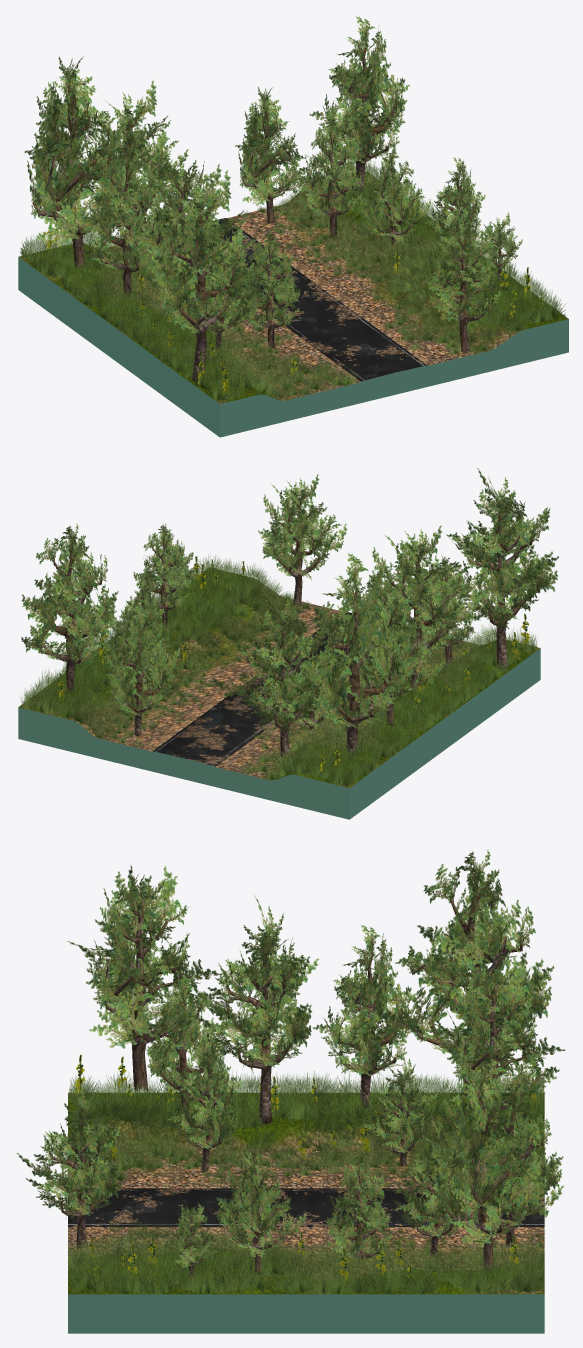
The model's file is road.glb.
3 views of the same model, one above another, from view 1: azimuth 30°, elevation 25°; view 2: azimuth 150°, elevation 25°; view 3: azimuth 270°, elevation 25° (orthographic). The views are drawn at different scales.
Parts seen in each view (by area): view 1: Trees_Nature_0, Ground_Ground_0, BgCutOut_BackGround_0, Road_Road_0; view 2: Trees_Nature_0, Ground_Ground_0, BgCutOut_BackGround_0, Road_Road_0; view 3: Trees_Nature_0, Ground_Ground_0, BgCutOut_BackGround_0, Road_Road_0.
Part boxes in pixels (<box>): Trees_Nature_0: <box>20,16,566,401</box>; Ground_Ground_0: <box>19,172,568,403</box>; BgCutOut_BackGround_0: <box>18,219,568,437</box>; Road_Road_0: <box>192,218,426,381</box>; Trees_Nature_0: <box>20,468,558,786</box>; Ground_Ground_0: <box>18,567,540,787</box>; BgCutOut_BackGround_0: <box>18,648,540,819</box>; Road_Road_0: <box>153,612,373,766</box>; Trees_Nature_0: <box>16,849,565,1293</box>; Ground_Ground_0: <box>68,1092,544,1294</box>; BgCutOut_BackGround_0: <box>68,1294,544,1333</box>; Road_Road_0: <box>68,1188,544,1226</box>.
Bounding box in the file's own units: 4.73 × 2.75 × 4.66.
4 materials, 3 textured.
